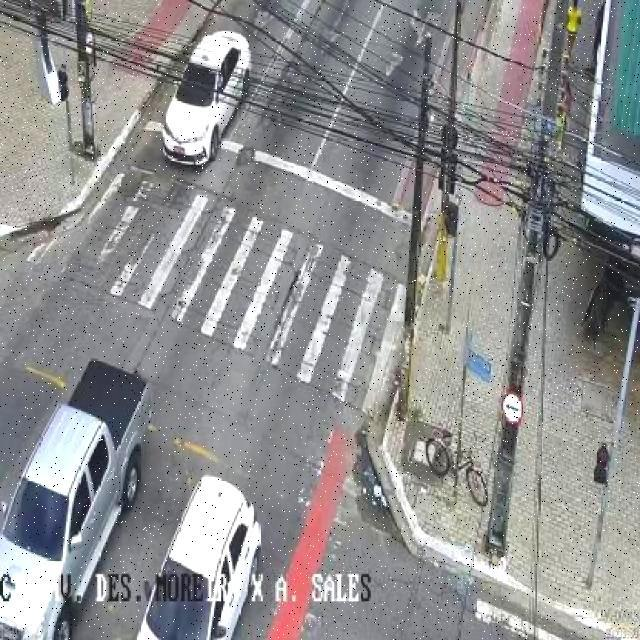Car: (135, 474, 262, 640), (161, 31, 251, 167)
Cycle: (423, 428, 490, 507)
Truck: (0, 358, 153, 640)
